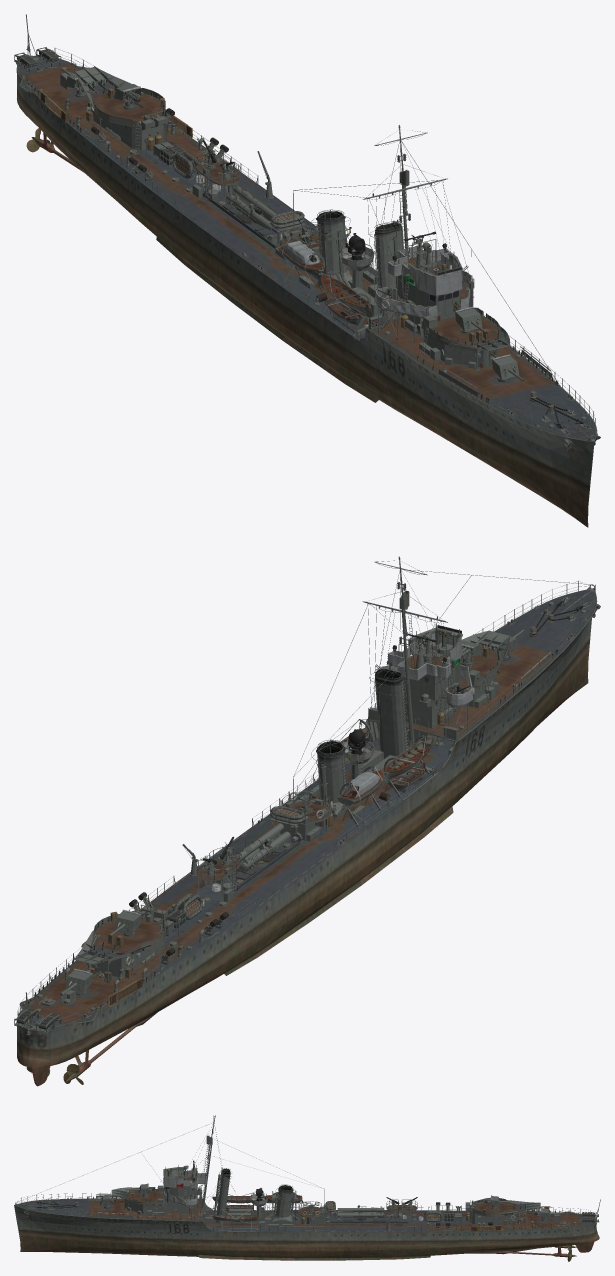
File: british_v-class_destroyer_ww1.glb
3 renders of one model, top to bottom at view 1: azimuth 30°, elevation 25°; view 2: azimuth 150°, elevation 25°; view 3: azimuth 270°, elevation 25°, orthographic. The views are drawn at different scales.
Parts seen in each view (by area): view 1: Vampire_2; view 2: Vampire_2; view 3: Vampire_2.
Boxes of the visible parts, x1,y1,x2,y2 form: Vampire_2: (14, 14, 600, 527); Vampire_2: (14, 556, 600, 1086); Vampire_2: (14, 1115, 600, 1261).
Size of the model in its own units: 6 by 16.8 by 63.57.
4 materials, 4 textured.
